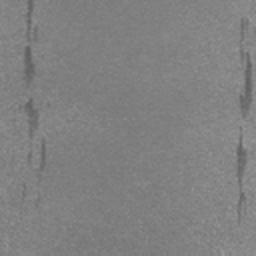Red iron sheet: (240, 50, 252, 118), (237, 135, 247, 187), (25, 98, 38, 137), (24, 46, 35, 84), (26, 0, 34, 41), (237, 192, 246, 222), (40, 139, 46, 171), (240, 19, 249, 40)
